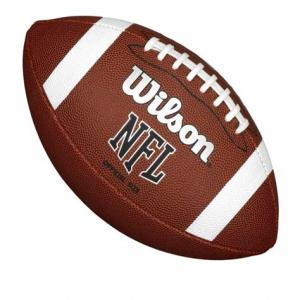Rugby: (22, 16, 280, 260)
